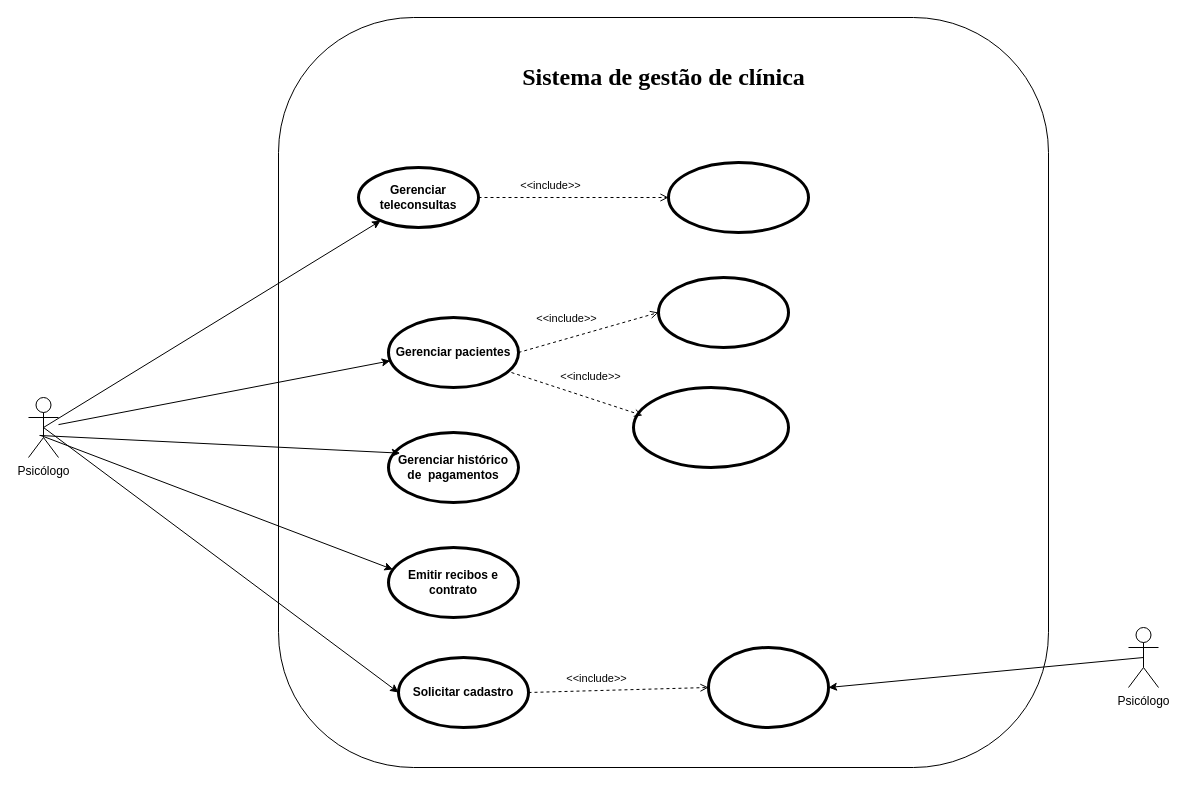
Image size: 1186x785. Some labels were removed from this diagram. Here are the shapes that lost their labels. From the top down, the centre of each, then its label:
At point 738,197: "executar consulta agendada".
At point 723,312: "Evoluir dados dos pacientes".
At point 711,427: "Enviar tarefas para evolução e acompanhamento".
At point 768,687: "Validar cadastro e CRP".
